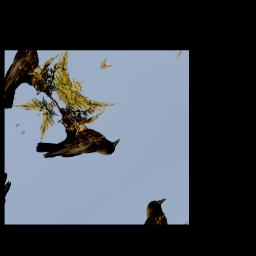Crow: (31, 100, 126, 190)
